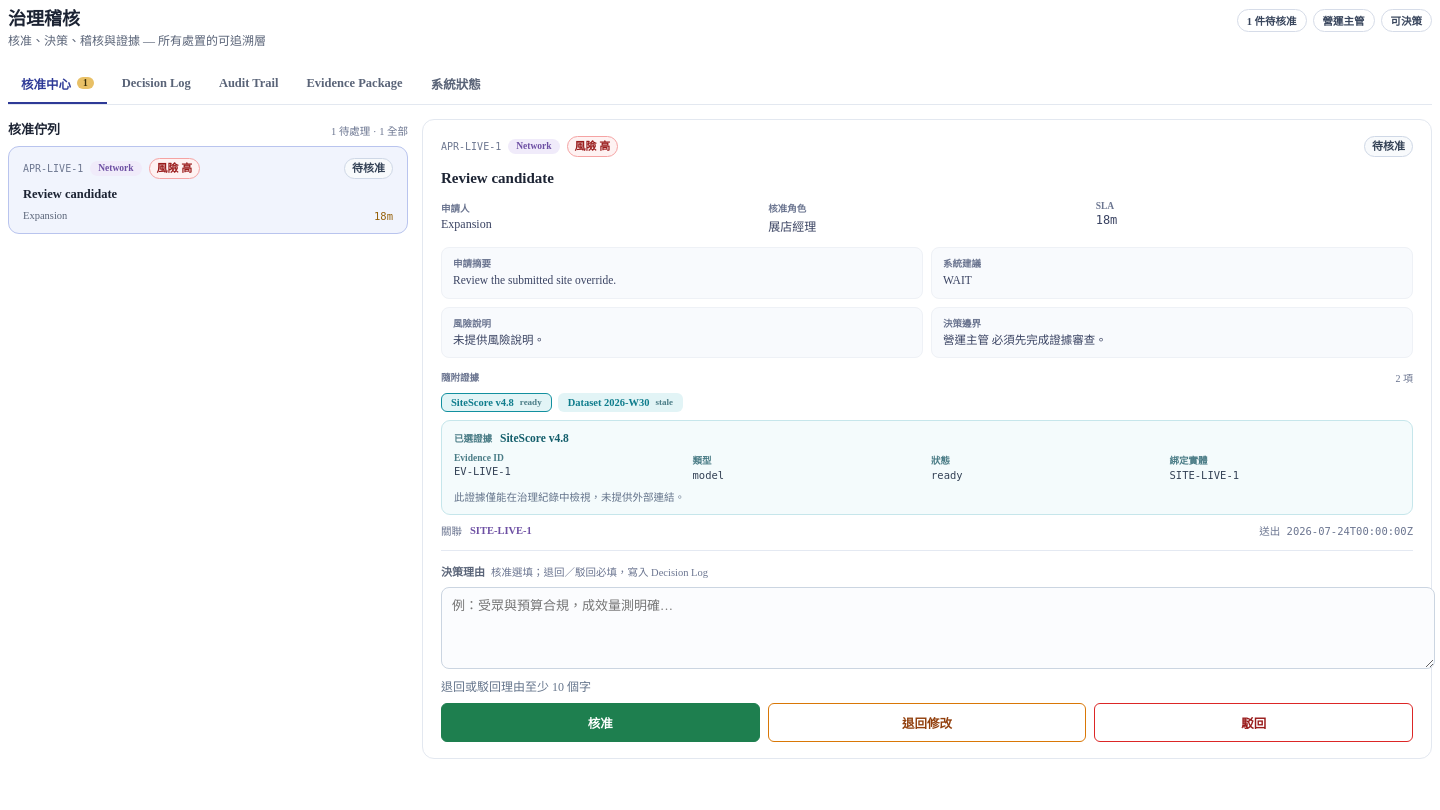
GovernanceWorkspace high-risk failures › renders dense decision, audit, evidence package and status surfaces
Step 1. Click the button with test id "governance-tab-decisions" → (156, 84), box [109, 65, 204, 104]
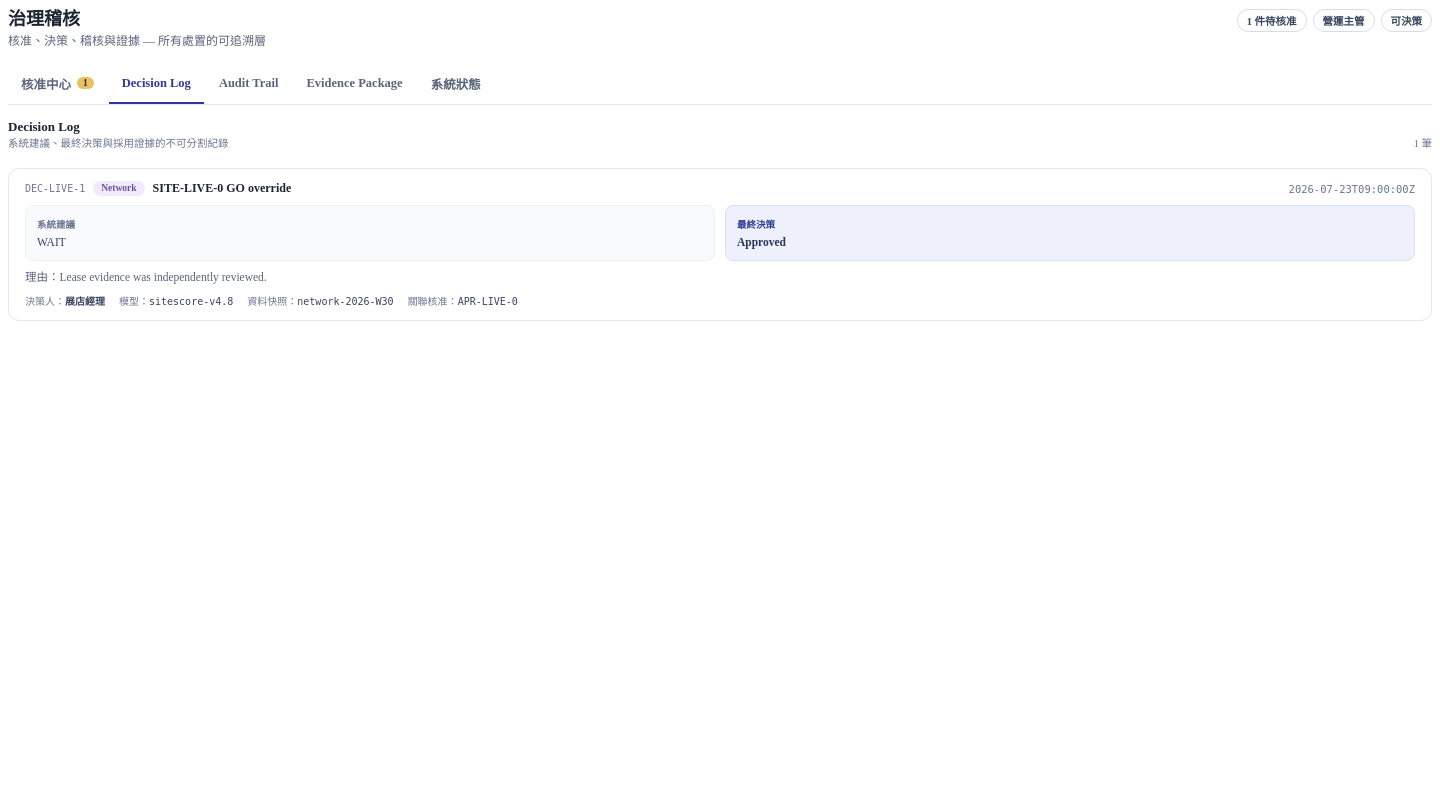
Result: the text "系統建議、最終決策與採用證據的不可分割紀錄" is shown at [8, 135, 228, 150]
Result: the text "APR-LIVE-0" is shown at [458, 296, 518, 307]
Step 2. Click the button with test id "governance-tab-audit" → (249, 84), box [206, 65, 292, 104]
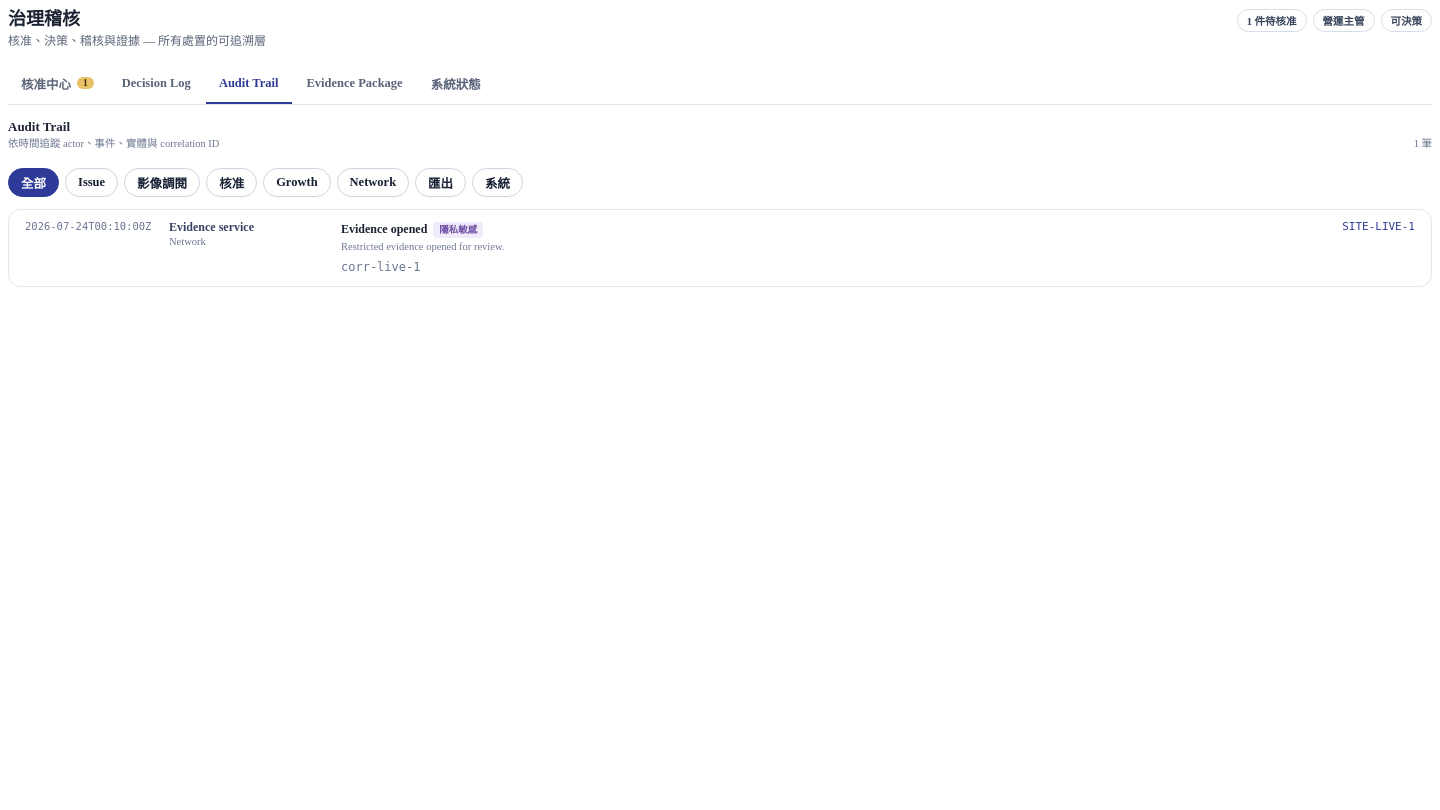
Result: the text "隱私敏感" is shown at [433, 222, 483, 238]
Result: the text "corr-live-1" is shown at [341, 260, 420, 274]
Step 3. Click the button with test id "governance-tab-evidencePackage" → (355, 84), box [294, 65, 416, 104]
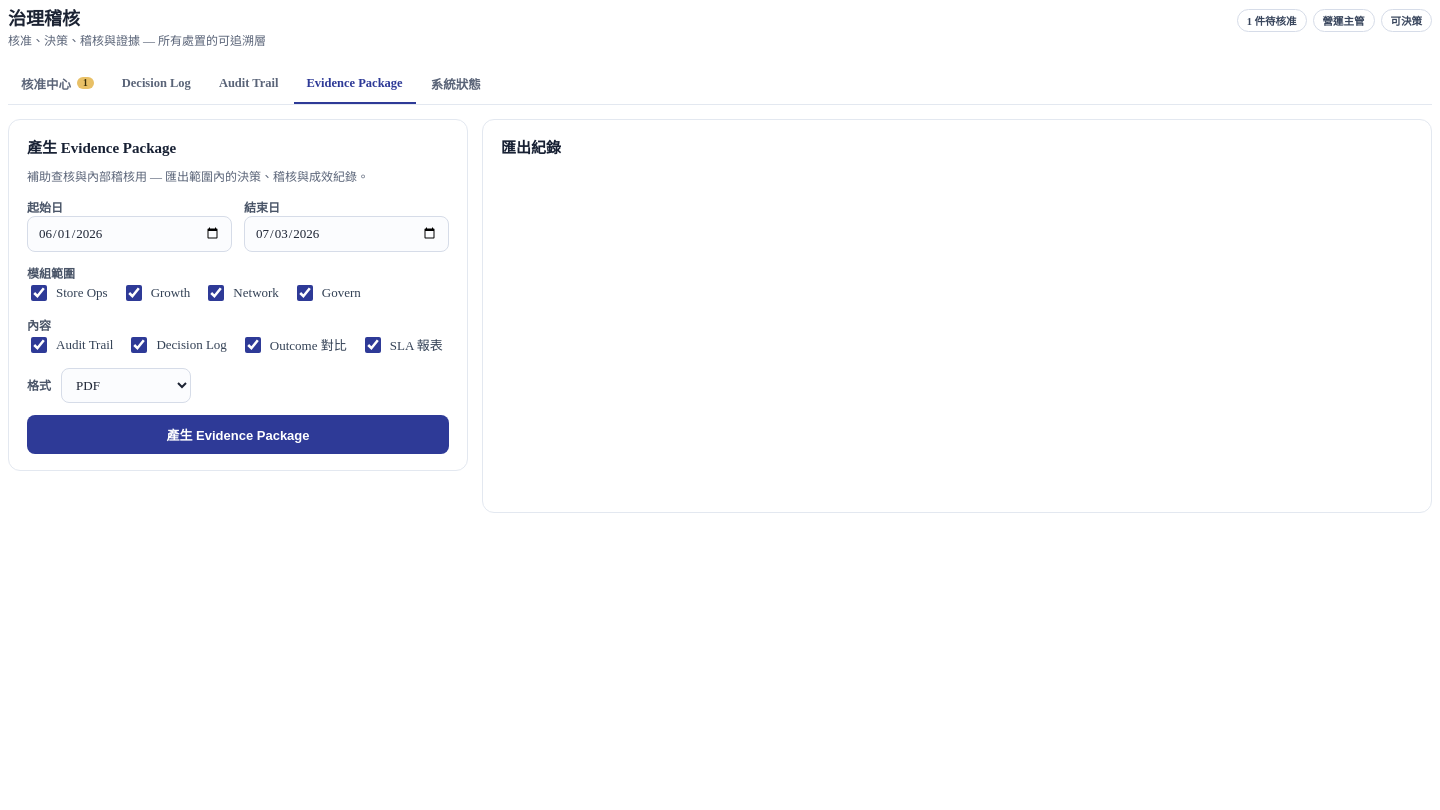
Result: the button "產生 Evidence Package" is shown at [27, 415, 449, 454]
Step 4. Click the button with test id "governance-tab-statusBoard" → (456, 84), box [418, 65, 494, 104]
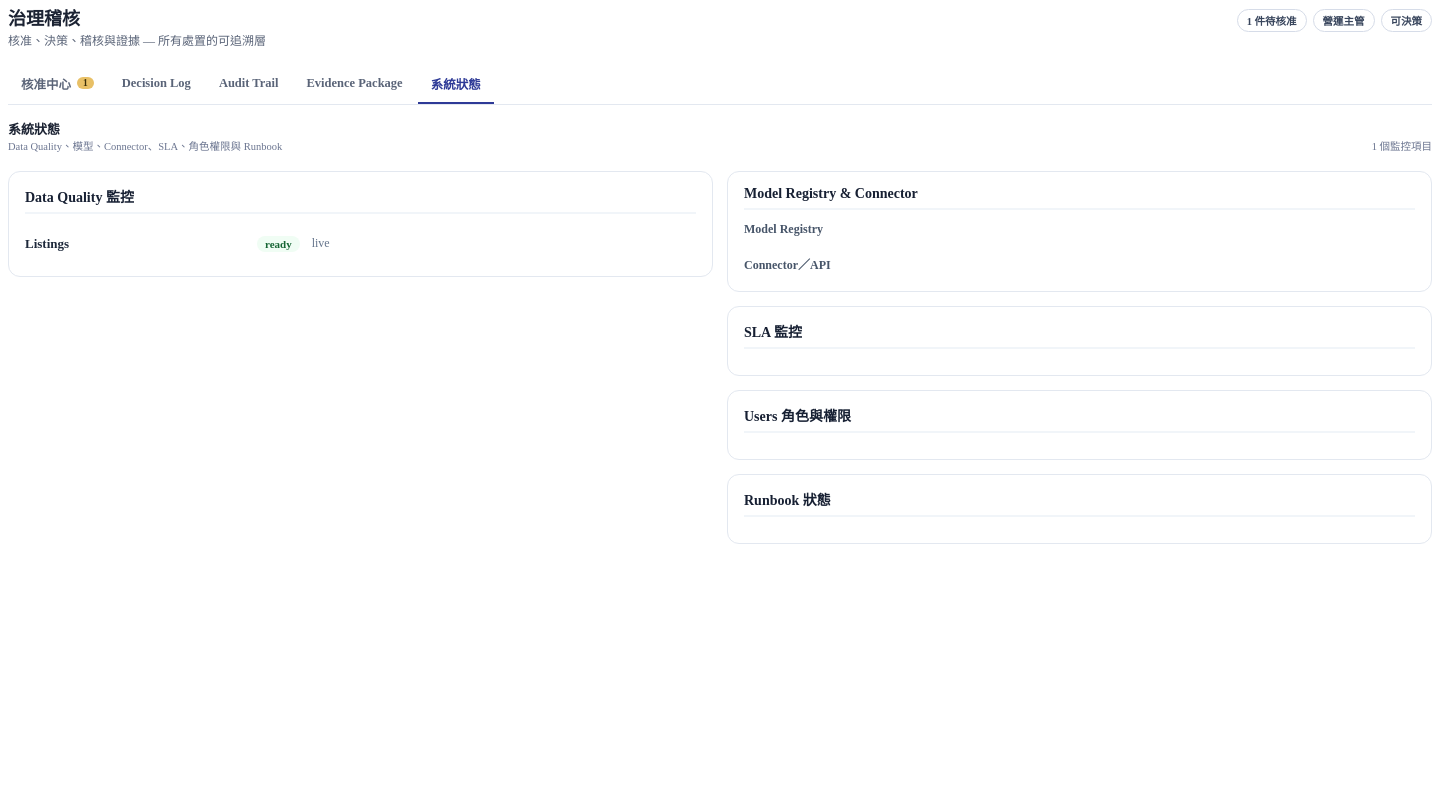
Result: the text "Data Quality 監控" is shown at [25, 186, 696, 214]
Result: the element with test id "governance-sla-card" is shown at [727, 306, 1432, 376]
Result: the element with test id "governance-users-card" is shown at [727, 390, 1432, 460]
